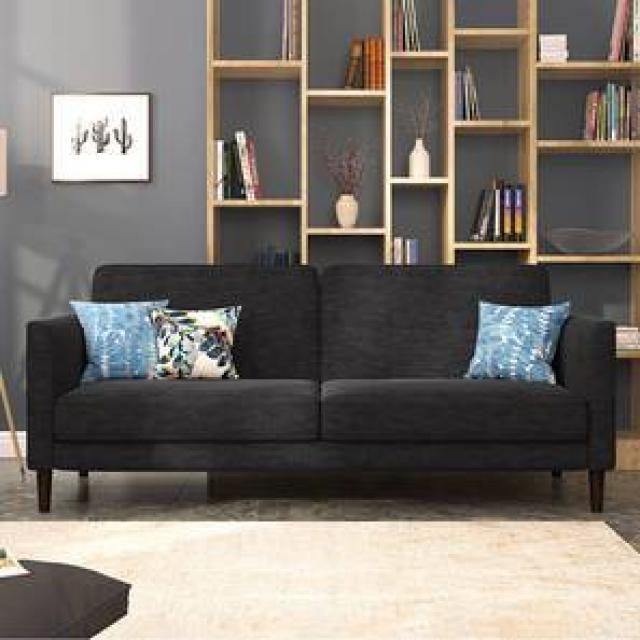sofa: (24, 261, 616, 513)
